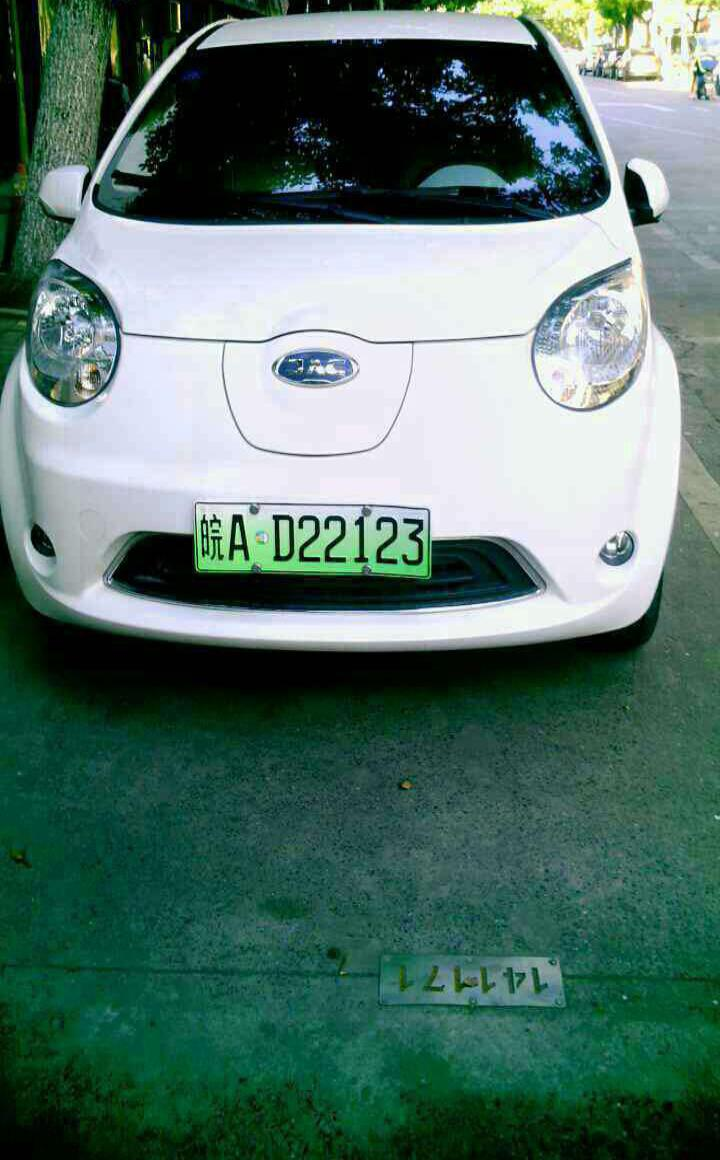car_id: (197, 502, 431, 576)
